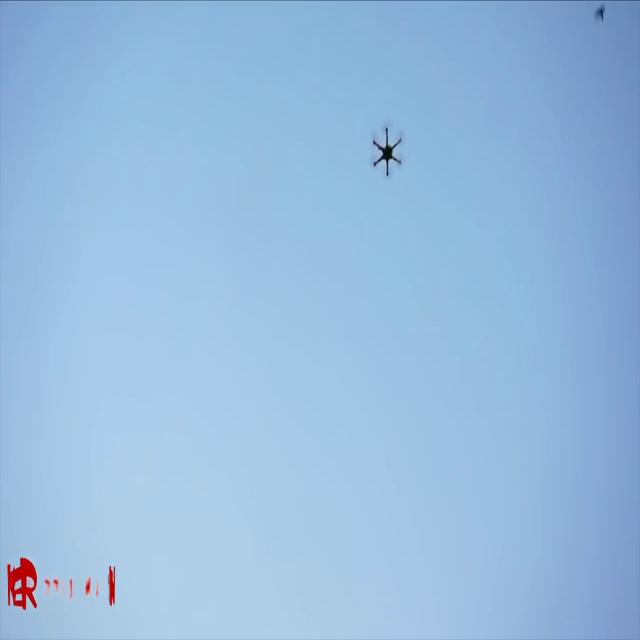drone: (364, 112, 408, 183)
